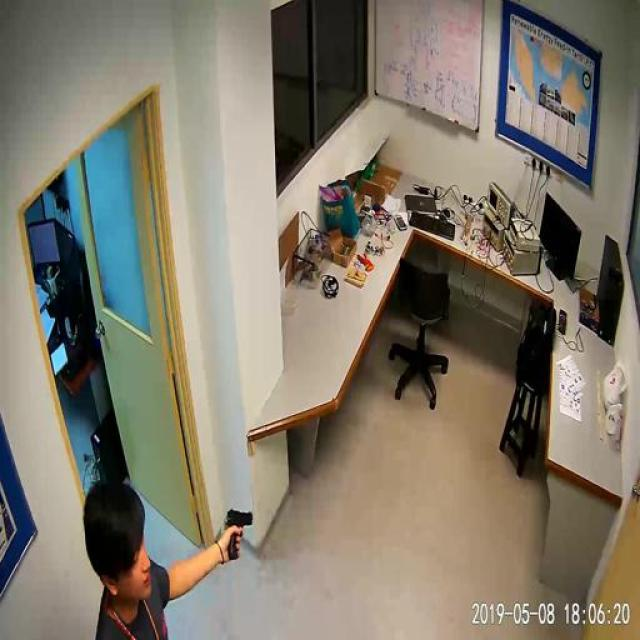Gun: (217, 505, 268, 564)
